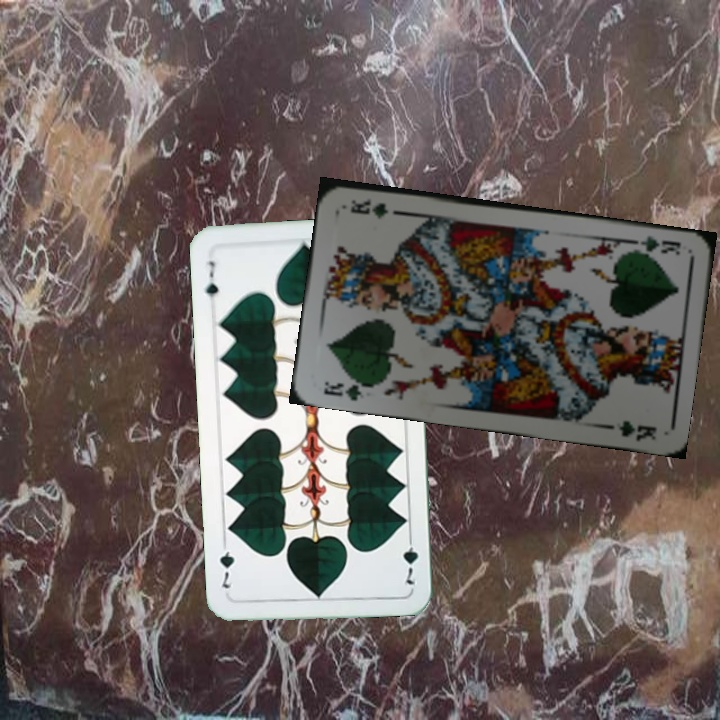G7: (399, 530, 421, 587), (201, 257, 221, 300)
GK: (319, 376, 376, 404), (628, 232, 684, 258)
